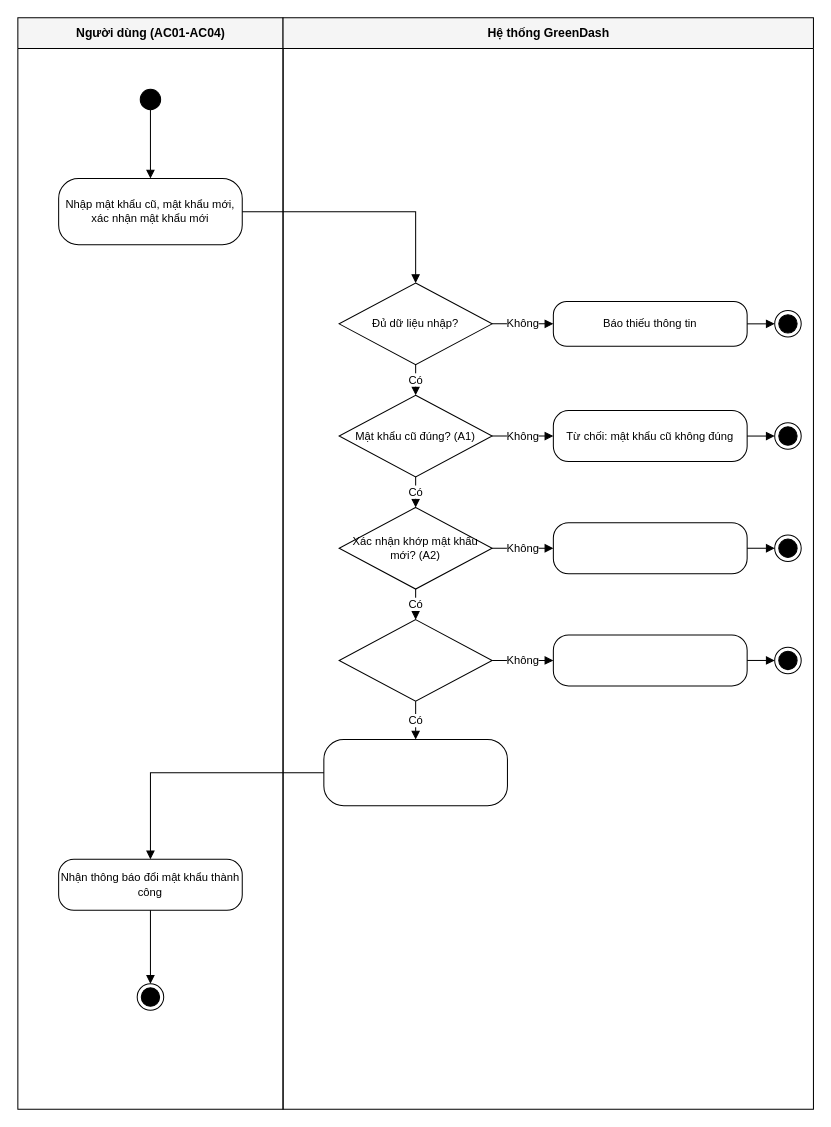
This 831x1127 diagram has some shape labels left out. The shapes that lost their labels are listed below. From the top down, each one's centre as x and y in pixels, then its label:
At point (649, 548): "Từ chối: xác nhận không khớp".
At point (415, 660): "Mật khẩu mới đủ mạnh và khác mật khẩu cũ? (BR14, A3)".
At point (649, 660): "Từ chối, nêu rõ lý do (yếu hoặc trùng mật khẩu cũ)".
At point (415, 772): "Lưu mật khẩu mới dạng băm có salt, vô hiệu các phiên cũ, ghi nhật ký".
